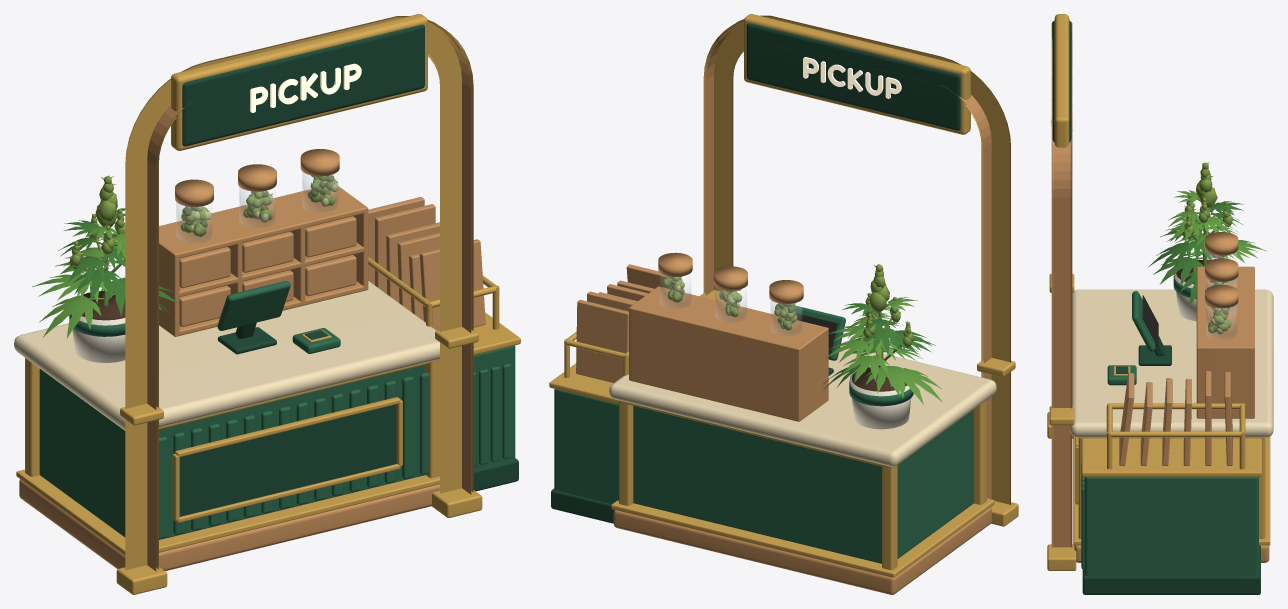
The model's file is pickup_desk_tier2.glb.
3 views of the same model, side by side, from view 1: azimuth 30°, elevation 25°; view 2: azimuth 150°, elevation 25°; view 3: azimuth 270°, elevation 25° (orthographic). The views are drawn at different scales.
Parts seen in each view (by area): view 1: Top, ArchBrass, Body, Sign, Panel, Arch, Plinth, PlinthBrass, ShelfBoard1.10, SignBorder, Till, Cabinet (+47 smaller); view 2: Body, ArchBrass, Top, ShelfBack, Sign, Plinth, Cabinet, Arch, PlinthBrass, ShelfBoard1.10, SignBorder, FlatBag5 (+21 smaller); view 3: Cabinet, Top, Arch, CabinetLip, ShelfDiv3, CabinetKick, ShelfBoard1.10, SignBorder, PlinthBrass, Jar2Glass, BasketRailE0.90, FlatBag0 (+23 smaller).
Part boxes in pixels (bbox=[...]): Top: bbox=[14, 281, 439, 430]; ArchBrass: bbox=[125, 16, 473, 570]; Body: bbox=[39, 364, 425, 539]; Sign: bbox=[182, 24, 424, 146]; Panel: bbox=[179, 404, 396, 516]; Arch: bbox=[147, 32, 471, 571]; Plinth: bbox=[19, 479, 439, 571]; PlinthBrass: bbox=[16, 469, 439, 555]; ShelfBoard1.10: bbox=[159, 187, 364, 258]; SignBorder: bbox=[171, 14, 427, 150]; Till: bbox=[217, 281, 290, 330]; Cabinet: bbox=[473, 345, 515, 469]; Body: bbox=[633, 406, 973, 563]; ArchBrass: bbox=[703, 15, 1010, 504]; Top: bbox=[609, 343, 996, 466]; ShelfBack: bbox=[631, 308, 796, 421]; Sign: bbox=[746, 23, 960, 130]; Plinth: bbox=[613, 507, 991, 594]; Cabinet: bbox=[554, 389, 618, 503]; Arch: bbox=[705, 31, 991, 499]; PlinthBrass: bbox=[611, 498, 994, 577]; ShelfBoard1.10: bbox=[633, 287, 824, 347]; SignBorder: bbox=[744, 14, 970, 134]; FlatBag5: bbox=[576, 299, 628, 382]; Cabinet: bbox=[1084, 477, 1258, 576]; Top: bbox=[1070, 289, 1273, 437]; Arch: bbox=[1051, 22, 1072, 547]; CabinetLip: bbox=[1081, 438, 1261, 477]; ShelfDiv3: bbox=[1196, 346, 1254, 418]; CabinetKick: bbox=[1082, 545, 1260, 594]; ShelfBoard1.10: bbox=[1196, 267, 1253, 346]; SignBorder: bbox=[1054, 14, 1069, 147]; PlinthBrass: bbox=[1073, 436, 1270, 545]; Jar2Glass: bbox=[1206, 304, 1236, 339]; BasketRailE0.90: bbox=[1109, 431, 1242, 437]; FlatBag0: bbox=[1119, 373, 1134, 466].
Bounding box in the file's own units: 1.97 × 2.32 × 1.09.
